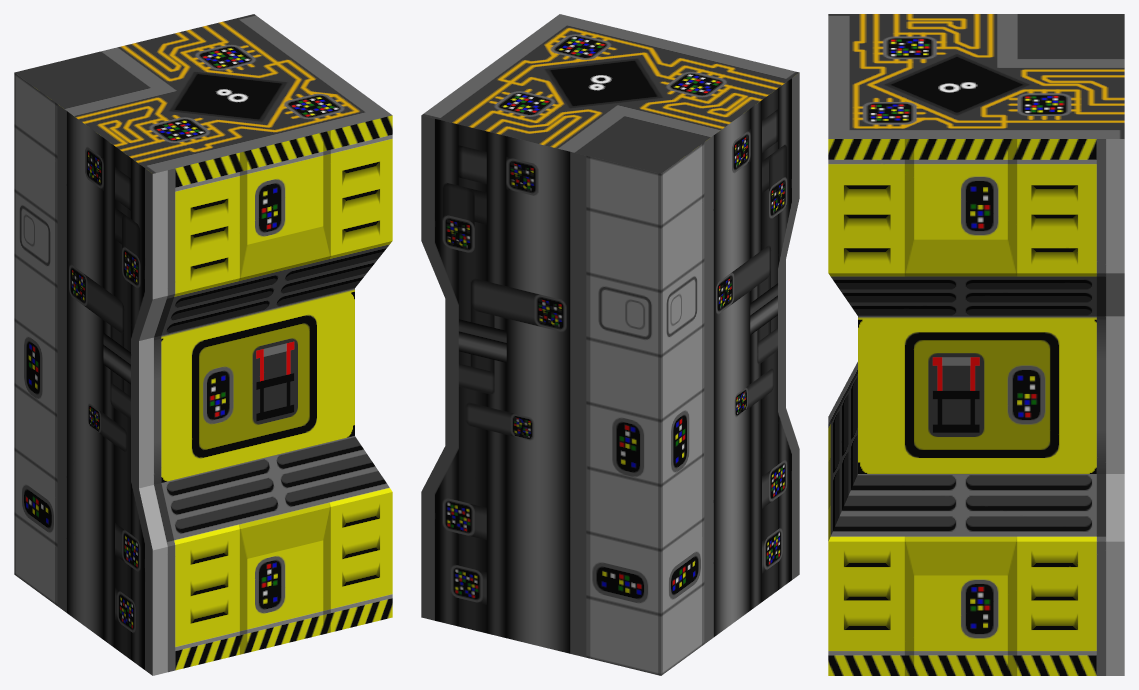
Rendered from ColumnSpacer.FBX.
The picture shows the model from 3 angles, left to right: view 1: azimuth 30°, elevation 25°; view 2: azimuth 150°, elevation 25°; view 3: azimuth 270°, elevation 25°; orthographic projection. The views are drawn at different scales.
Visible parts, largest first — view 1: Object004; view 2: Object004; view 3: Object004.
Part boxes in pixels (box(x1,y1,x2,y2)): Object004: box(14, 14, 392, 675); Object004: box(421, 14, 799, 675); Object004: box(828, 14, 1124, 675).
Size of the model in its own units: 10 by 20 by 10.
1 material, 1 textured.
